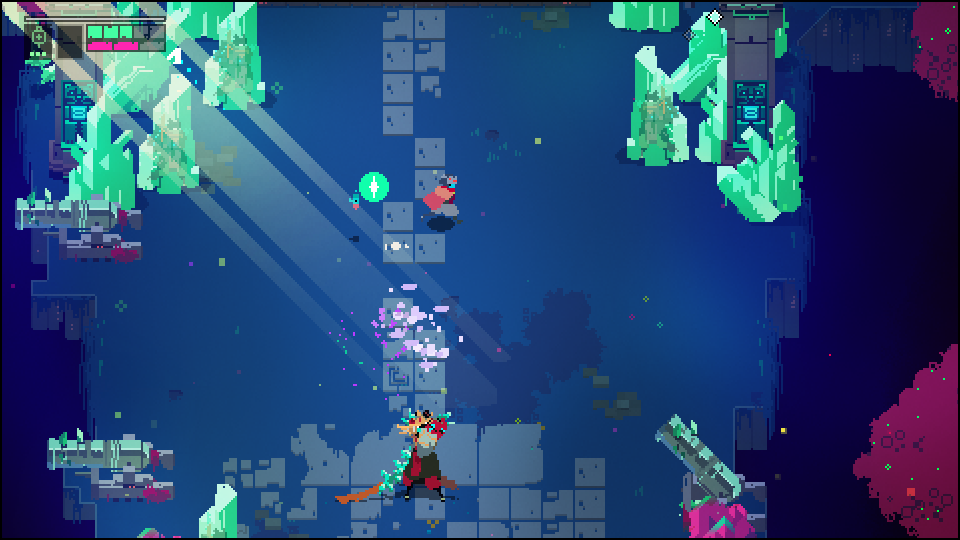hanged_man: (375, 407, 458, 501)
hanged_shot: (359, 172, 392, 204)
player: (419, 173, 458, 229)
